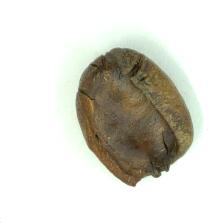NG: (88, 67, 180, 172)
